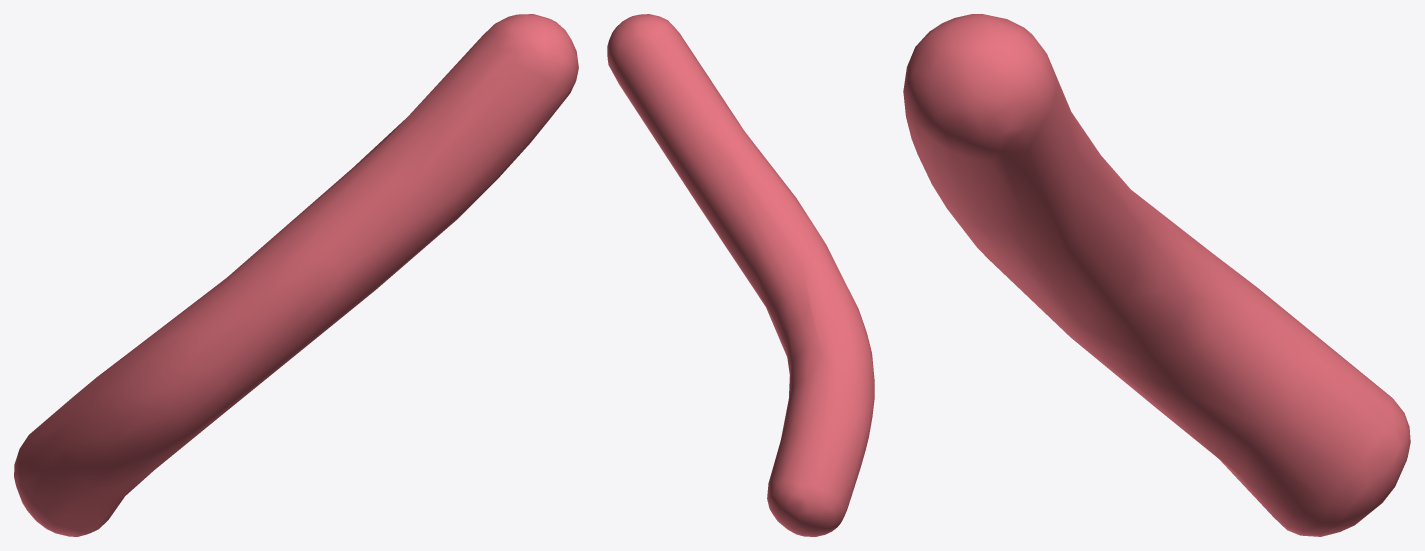
The model's file is fma82697_fj3102.glb.
3 views of the same model, side by side, from view 1: azimuth 30°, elevation 25°; view 2: azimuth 150°, elevation 25°; view 3: azimuth 270°, elevation 25° (orthographic). The views are drawn at different scales.
Parts seen in each view (by area): view 1: FMA82697_FJ3102; view 2: FMA82697_FJ3102; view 3: FMA82697_FJ3102.
Part boxes in pixels (x1,y1,x2,y2): FMA82697_FJ3102: (14, 14, 578, 536); FMA82697_FJ3102: (607, 14, 874, 536); FMA82697_FJ3102: (903, 14, 1410, 536).
Size of the model in its own units: 0.0295 by 0.034 by 0.021.
